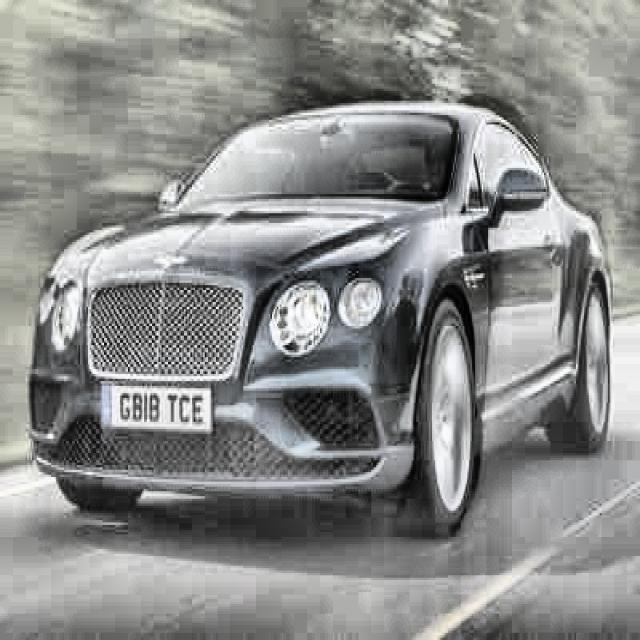license_plate: (99, 379, 211, 434)
